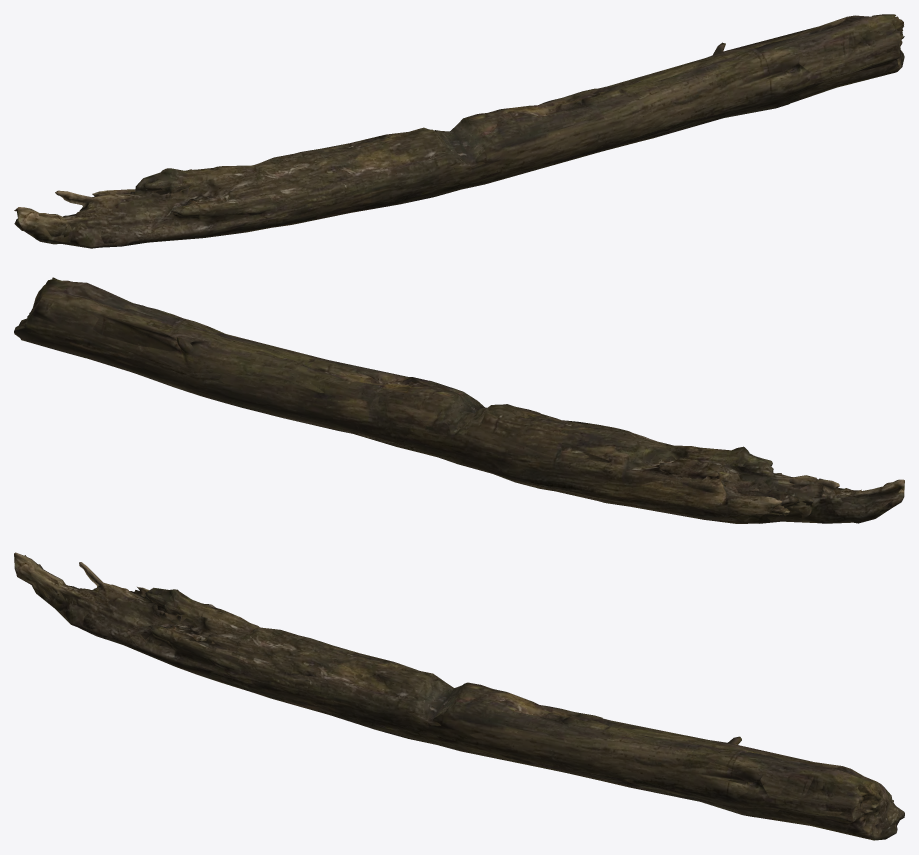
Rendered from dead_tree_trunk.glb.
3 views of the same model, one above another, from view 1: azimuth 30°, elevation 25°; view 2: azimuth 150°, elevation 25°; view 3: azimuth 330°, elevation 25° (orthographic).
Visible parts, largest first — view 1: dead_tree_trunk (×2); view 2: dead_tree_trunk (×2); view 3: dead_tree_trunk (×2).
Boxes of the visible parts, <box> form: dead_tree_trunk (×2): <box>14,14,904,248</box>; dead_tree_trunk (×2): <box>14,277,904,523</box>; dead_tree_trunk (×2): <box>14,552,904,840</box>.
Size of the model in its own units: 3.05 by 0.2905 by 0.2772.
Materials: 1 (1 with a texture image).
